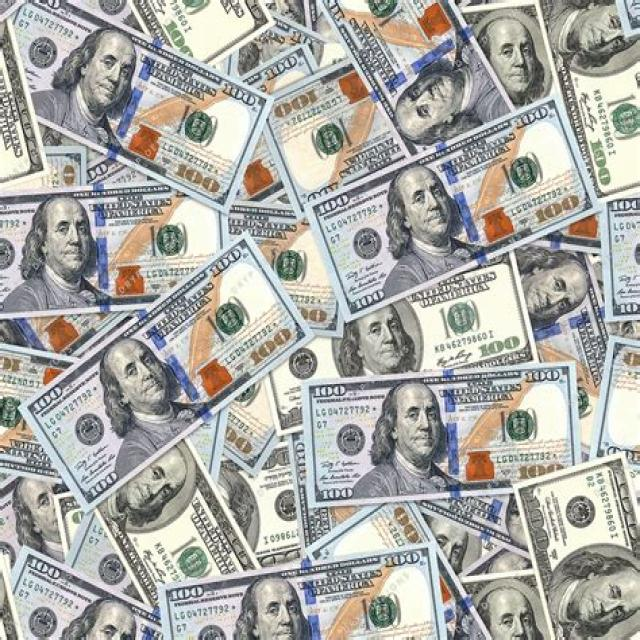Hundred: (24, 232, 315, 510), (313, 97, 602, 322), (0, 0, 273, 210), (269, 247, 537, 426), (308, 364, 578, 510), (314, 0, 516, 157), (0, 185, 226, 316), (159, 544, 449, 640), (497, 242, 624, 459), (511, 460, 640, 640), (533, 0, 640, 208), (283, 67, 410, 211), (5, 547, 163, 640)
